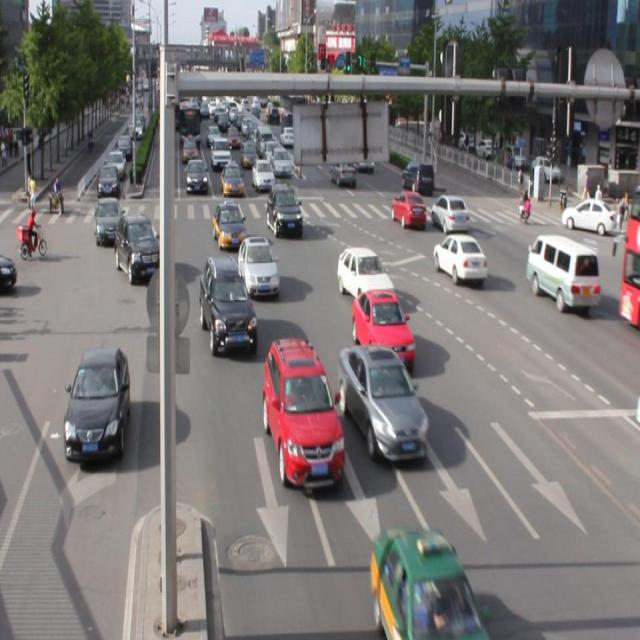car: (368, 527, 487, 640), (262, 336, 344, 489), (338, 342, 428, 458), (63, 345, 129, 461), (199, 254, 257, 356), (352, 287, 415, 372), (336, 244, 395, 302), (115, 209, 162, 280), (432, 232, 487, 282), (238, 235, 280, 298), (212, 201, 248, 248), (429, 193, 469, 234), (390, 189, 426, 227)
truck: (523, 233, 601, 312)
